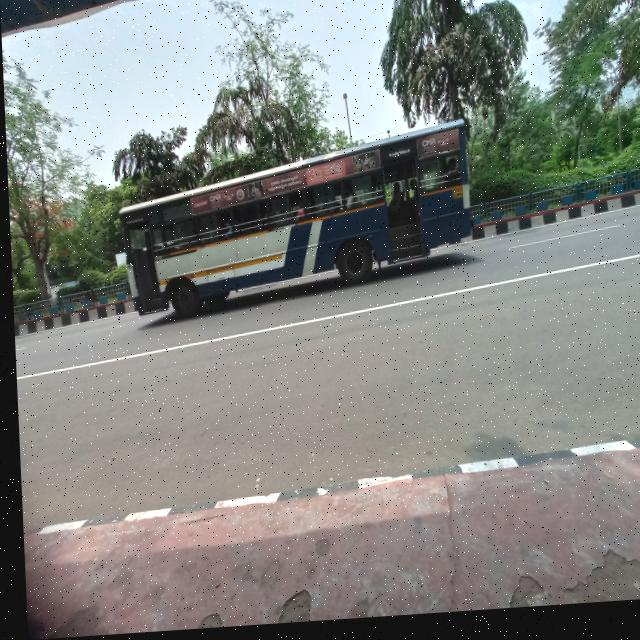bus: (113, 113, 478, 343)
